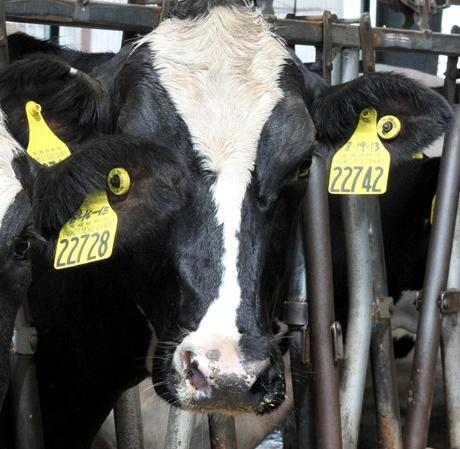muzzles: (151, 333, 291, 419)
